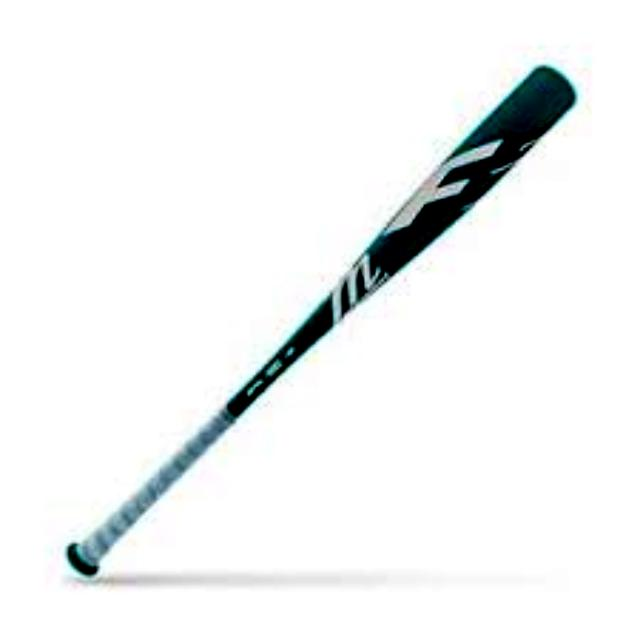baseball bat: (67, 66, 573, 572)
